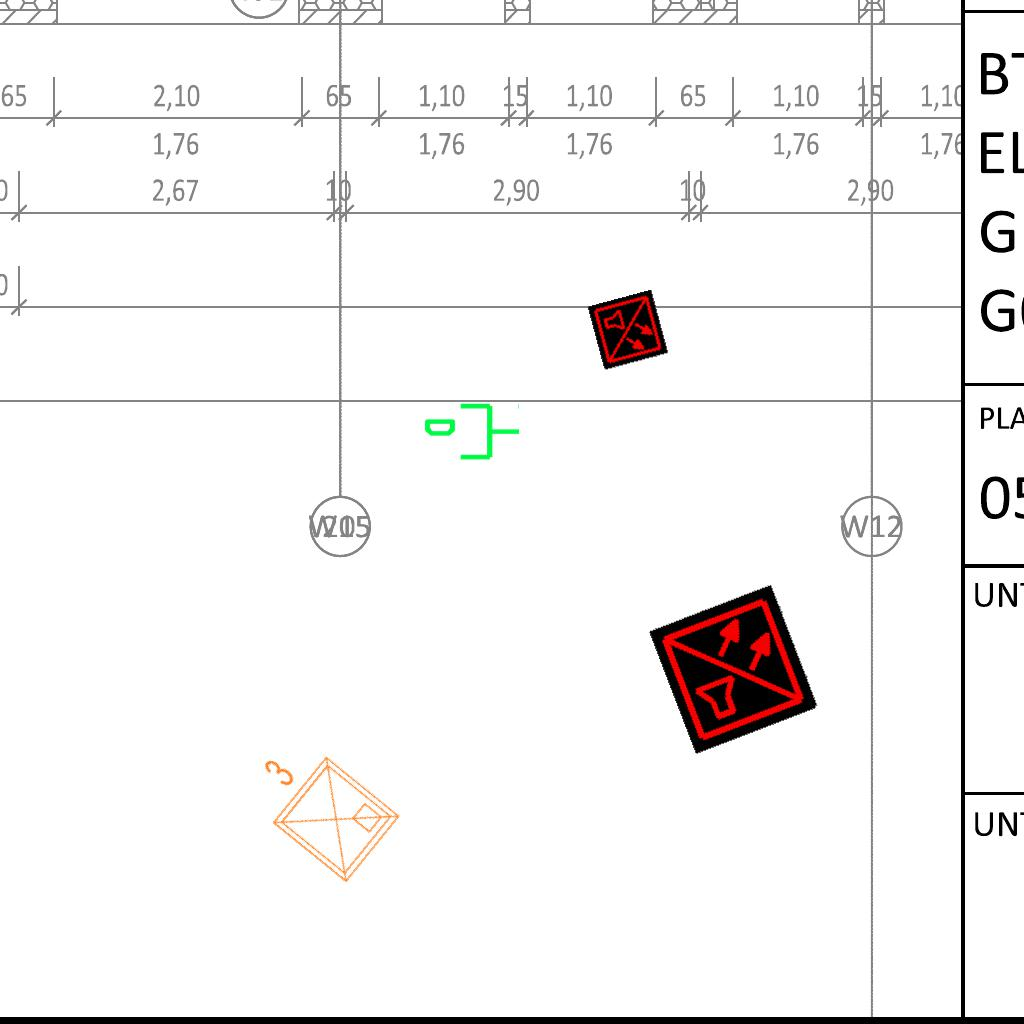Datenanschluss_einfach: (422, 399, 522, 468)
Einbaudownlights_LED_Konferenzraeume: (227, 720, 411, 896)
OKW_Multisensormelder_(Kombination_optischer_Rauch-Kahlenmonoxid_Waerme-Melder): (648, 583, 820, 755), (587, 289, 669, 371)
